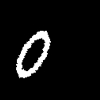chain: (16, 31, 50, 77)
